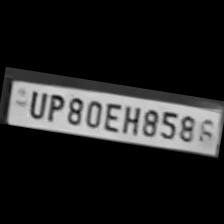0: (82, 96, 104, 128)
5: (155, 106, 181, 140)
8: (61, 92, 86, 126), (174, 110, 198, 144), (138, 104, 160, 138)
E: (100, 98, 123, 132)
H: (119, 100, 144, 136)
P: (42, 90, 66, 122)
U: (22, 86, 48, 120)
